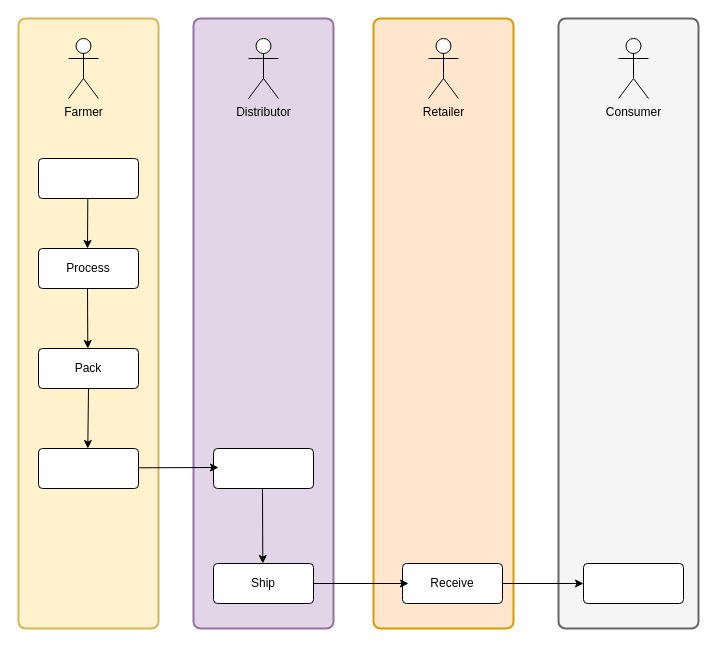
Some shapes in this 716 by 646 pixel diagram are drawn without their labels. Each missing label, with the centre of its shape:
Buy: the point at 263,468
Harvest: the point at 88,178
Purchase: the point at 633,583
Sell: the point at 88,468
